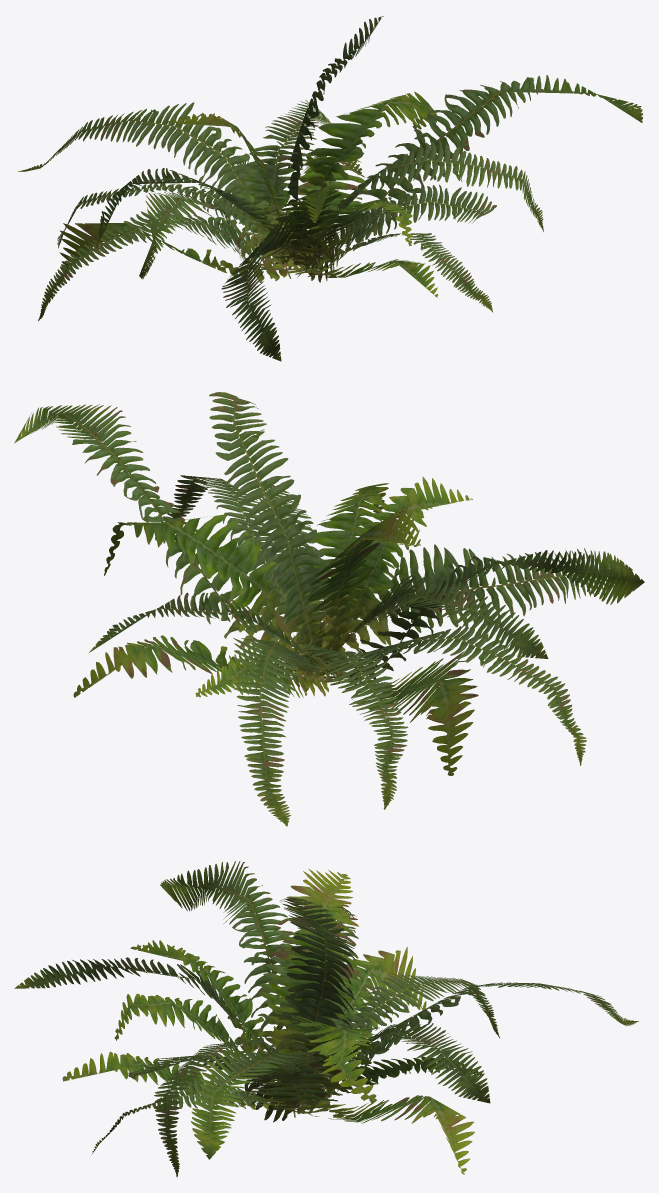
The model's file is Plant_H.glb.
The picture shows the model from 3 angles, top to bottom: view 1: azimuth 30°, elevation 25°; view 2: azimuth 150°, elevation 25°; view 3: azimuth 270°, elevation 25°; orthographic projection. The views are drawn at different scales.
Visible parts, largest first — view 1: Plant_H_instance.001; view 2: Plant_H_instance.001; view 3: Plant_H_instance.001.
Part boxes in pixels (box(x1,y1,x2,y2)): Plant_H_instance.001: box(18, 16, 642, 361); Plant_H_instance.001: box(14, 392, 644, 826); Plant_H_instance.001: box(14, 861, 638, 1177).
Size of the model in its own units: 1.33 by 0.5661 by 1.19.
1 material, 1 textured.
